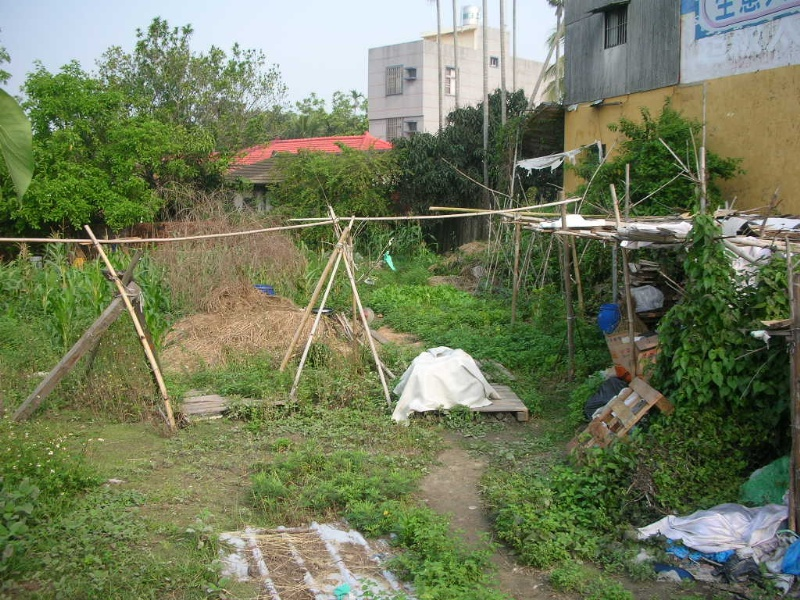plastic_bag: (389, 348, 502, 430), (640, 504, 783, 548)
